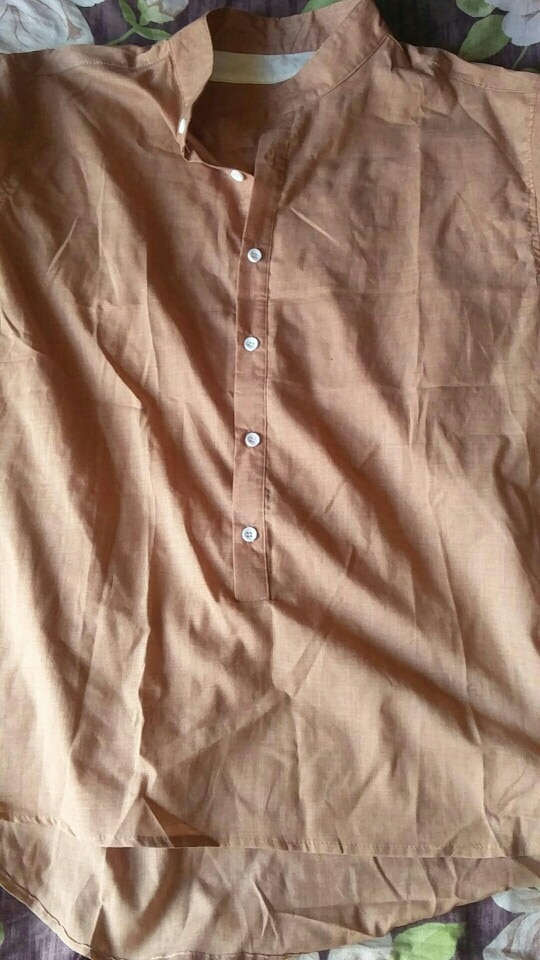shirts: (18, 25, 540, 910)
